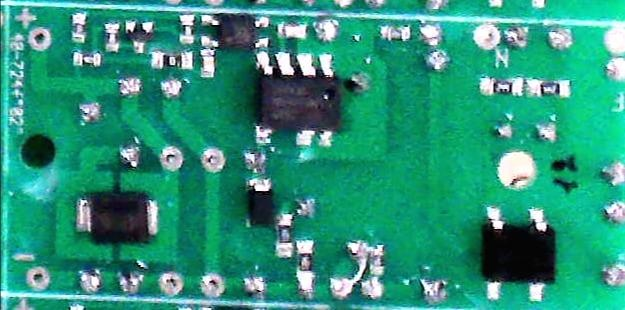chip-capacitor: (276, 22, 308, 40), (198, 49, 216, 79)
chip-resistor: (526, 78, 572, 99), (148, 50, 194, 70), (478, 77, 524, 97), (294, 240, 314, 285), (273, 214, 293, 259), (376, 25, 412, 42), (177, 14, 196, 45), (103, 23, 119, 54), (71, 51, 102, 67), (368, 246, 384, 276), (71, 14, 86, 43)
diode: (73, 191, 158, 245), (244, 177, 274, 227)
ic: (251, 51, 342, 148), (478, 206, 558, 303), (198, 13, 270, 50)
transistor: (122, 19, 153, 55)
